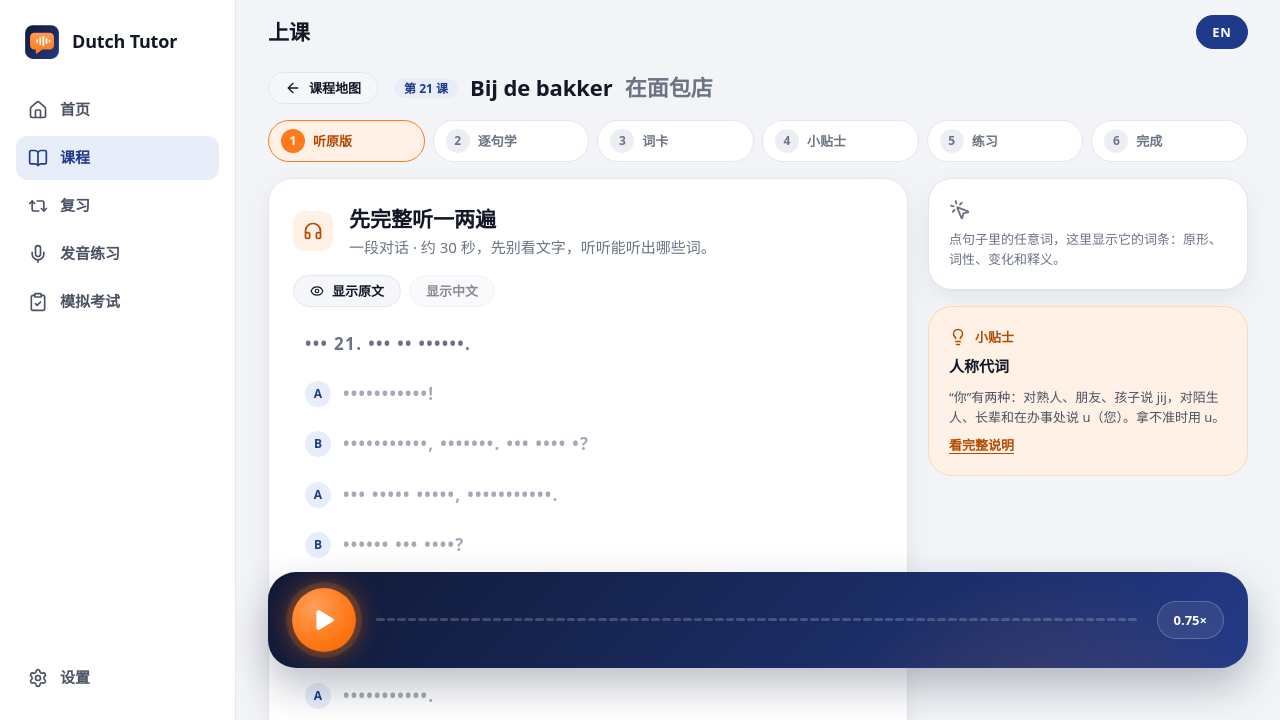
Test: lesson/NN21 shows Android permission guidance
Click the button "2 逐句学" at (511, 141), box 433,120 -> 589,162
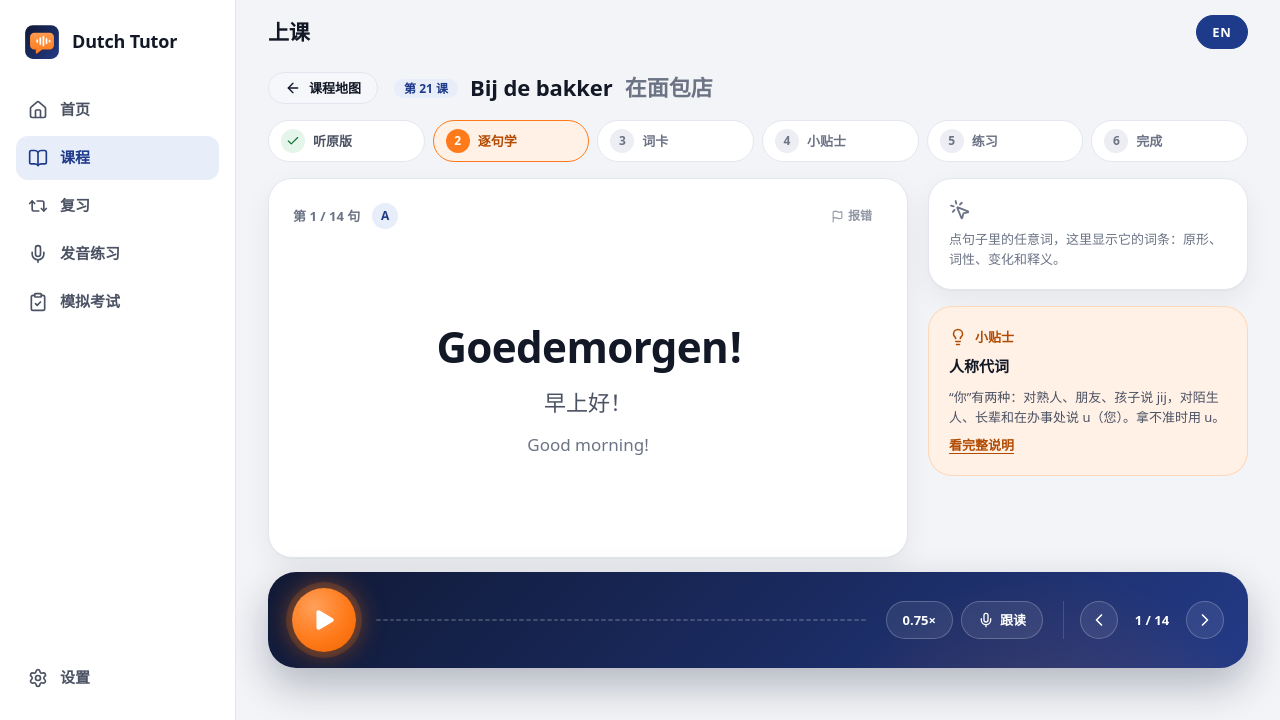
Click the button with aria-label "跟读录音" at (1002, 620), box 961,601 -> 1043,639
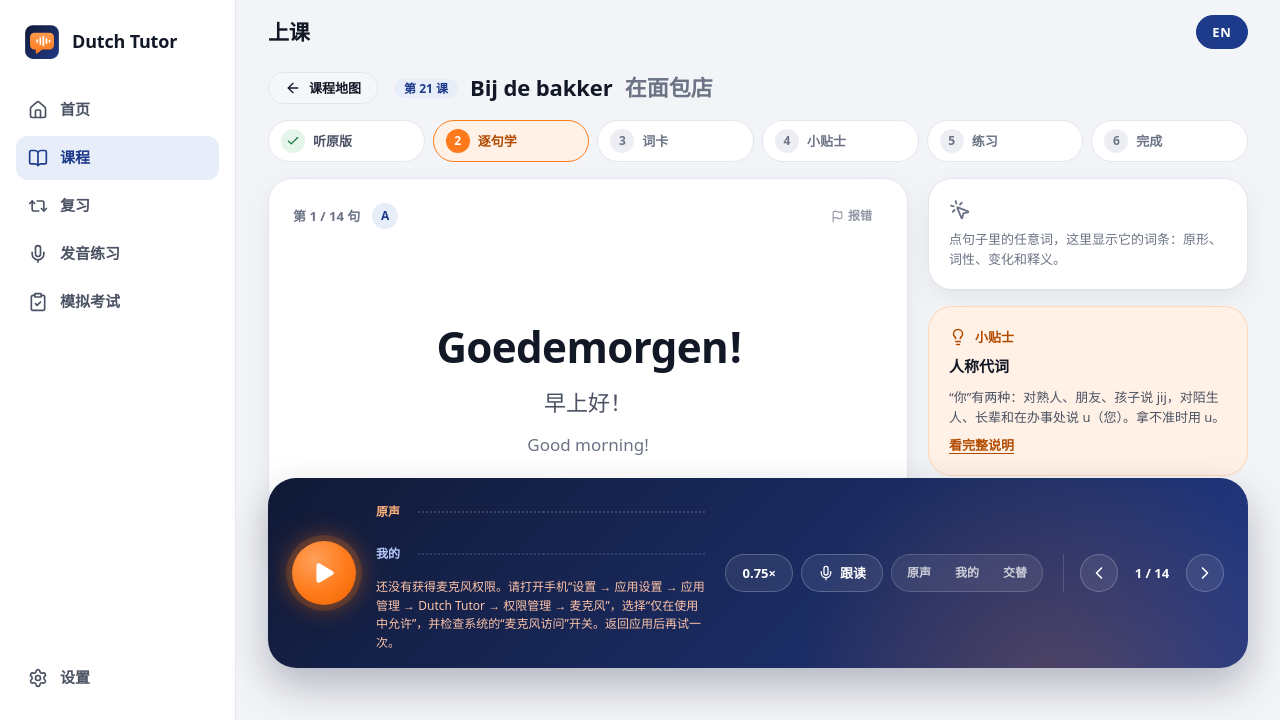
Expected: the message shows "权限管理 → 麦克风", 376,578 -> 705,650
